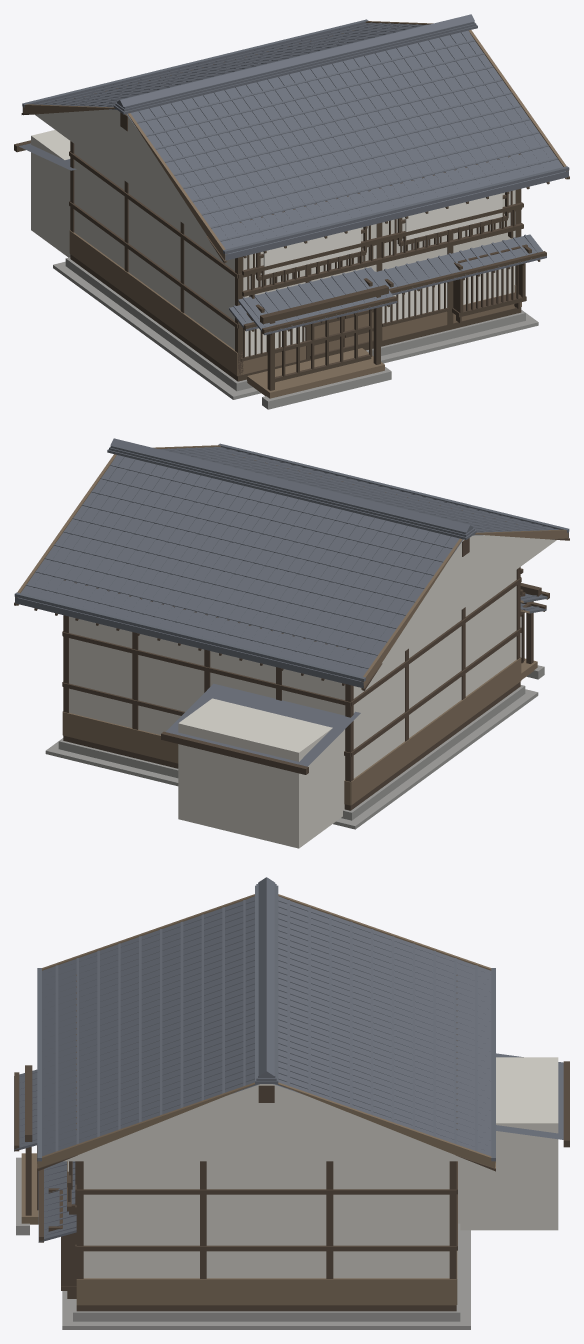
The model's file is family_standard_machiya_05.glb.
The picture shows the model from 3 angles, top to bottom: view 1: azimuth 30°, elevation 25°; view 2: azimuth 150°, elevation 25°; view 3: azimuth 270°, elevation 25°; orthographic projection. The views are drawn at different scales.
Parts seen in each view (by area): view 1: family_standard_machiya_05; view 2: family_standard_machiya_05; view 3: family_standard_machiya_05.
Part boxes in pixels (x1,y1,x2,y2): family_standard_machiya_05: [14, 14, 569, 409]; family_standard_machiya_05: [14, 438, 569, 848]; family_standard_machiya_05: [14, 877, 569, 1329].
Size of the model in its own units: 10 by 6.47 by 12.
